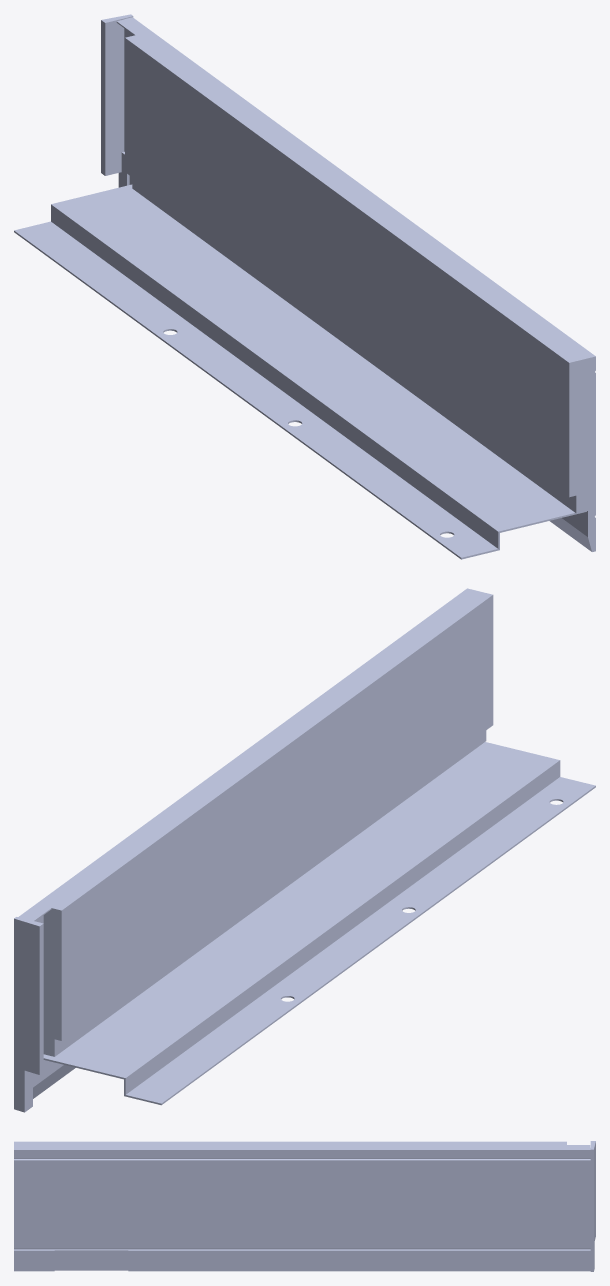
File: lg-kava-M400-m.glb
3 renders of one model, top to bottom at view 1: azimuth 30°, elevation 25°; view 2: azimuth 150°, elevation 25°; view 3: azimuth 270°, elevation 25°, orthographic. The views are drawn at different scales.
Visible parts, largest first — view 1: 48417026; view 2: 48417026; view 3: 48417026.
Part boxes in pixels (x1,y1,x2,y2): 48417026: [14, 14, 595, 559]; 48417026: [14, 588, 595, 1112]; 48417026: [14, 1141, 595, 1271].
Size of the model in its own units: 0.0653 by 0.0912 by 0.3935.
